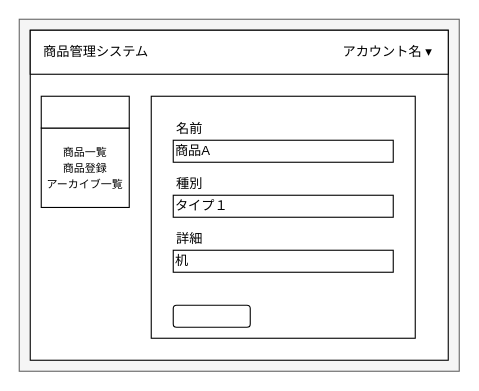
This 479x391 diagram has some shape labels left out. Here are the shapes that lost their labels. From the top down, the centre of each, then its label:
the point at 84,111: MENU
the point at 211,315: 編集
